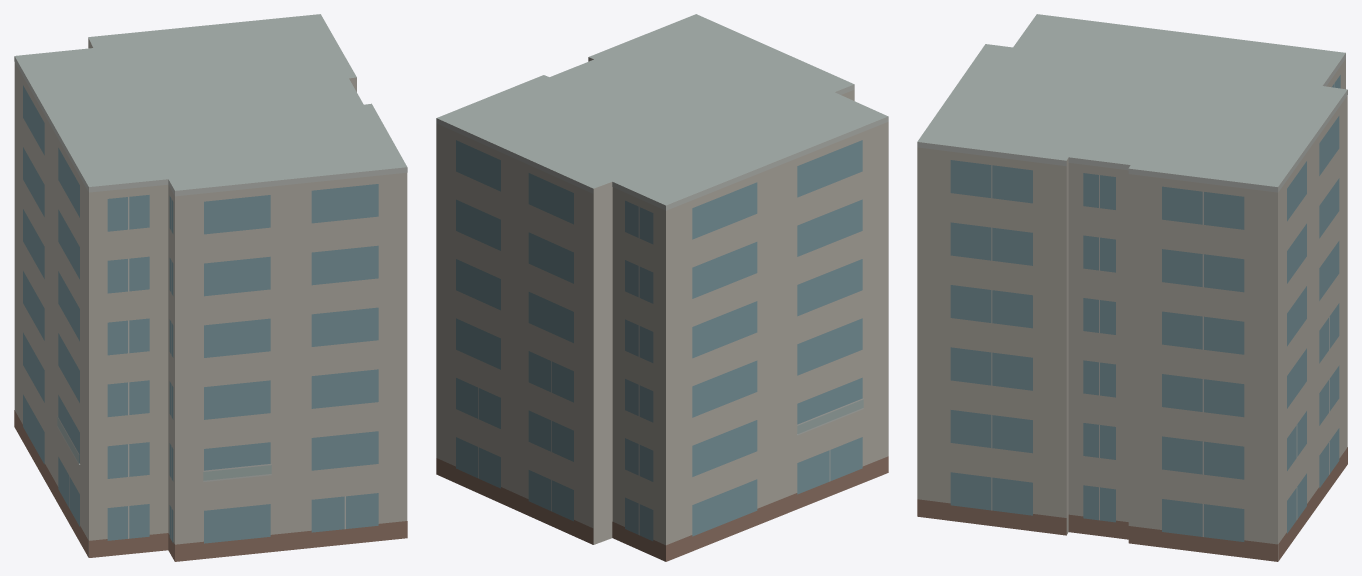
File: survey-upis-32930094.glb
3 views of the same model, side by side, from view 1: azimuth 30°, elevation 25°; view 2: azimuth 150°, elevation 25°; view 3: azimuth 270°, elevation 25° (orthographic). The views are drawn at different scales.
Parts seen in each view (by area): view 1: survey-upis-32930094.tmp; view 2: survey-upis-32930094.tmp; view 3: survey-upis-32930094.tmp.
Boxes of the visible parts, left/top/right/bottom form: survey-upis-32930094.tmp: left=14, top=14, right=407, bottom=561; survey-upis-32930094.tmp: left=436, top=14, right=888, bottom=561; survey-upis-32930094.tmp: left=917, top=14, right=1347, bottom=561.
Size of the model in its own units: 16.46 by 16.6 by 17.3.
